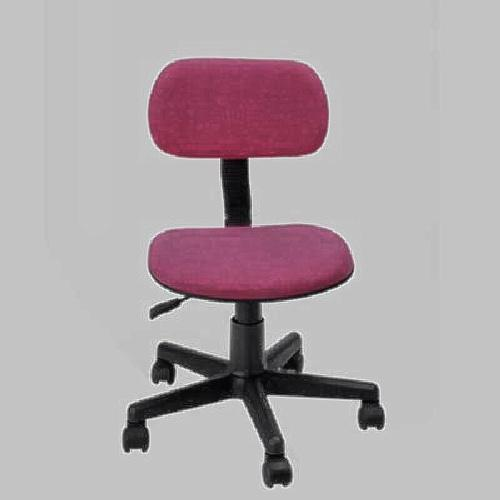chair: (136, 57, 378, 476)
